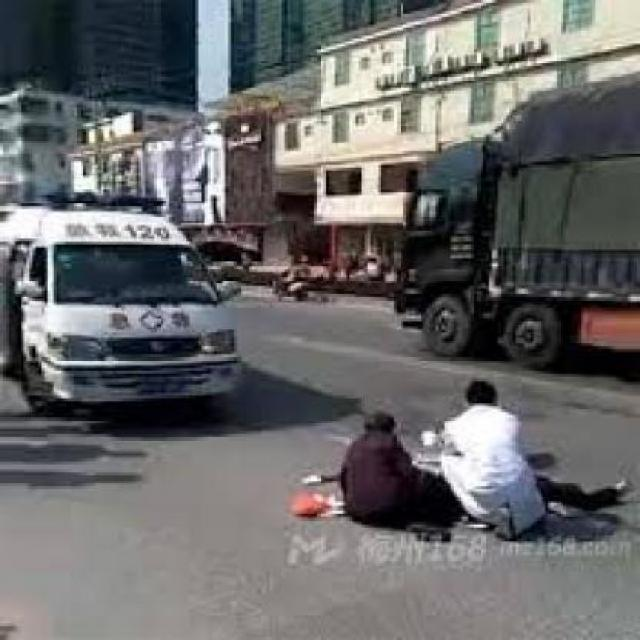fall: (308, 391, 472, 535)
